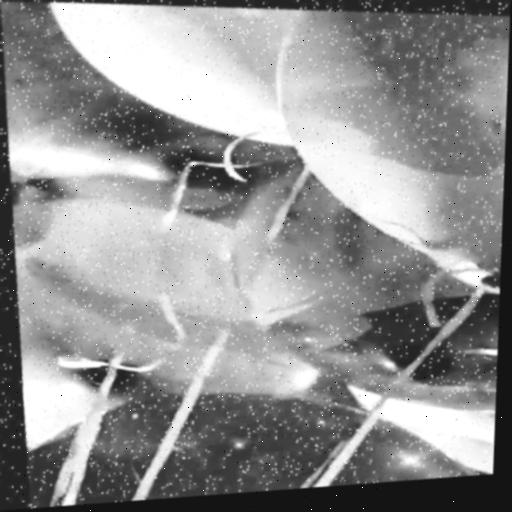balloon: (3, 183, 329, 455), (228, 142, 505, 432), (266, 0, 511, 318), (0, 0, 310, 244), (21, 372, 482, 509), (42, 0, 307, 166)
